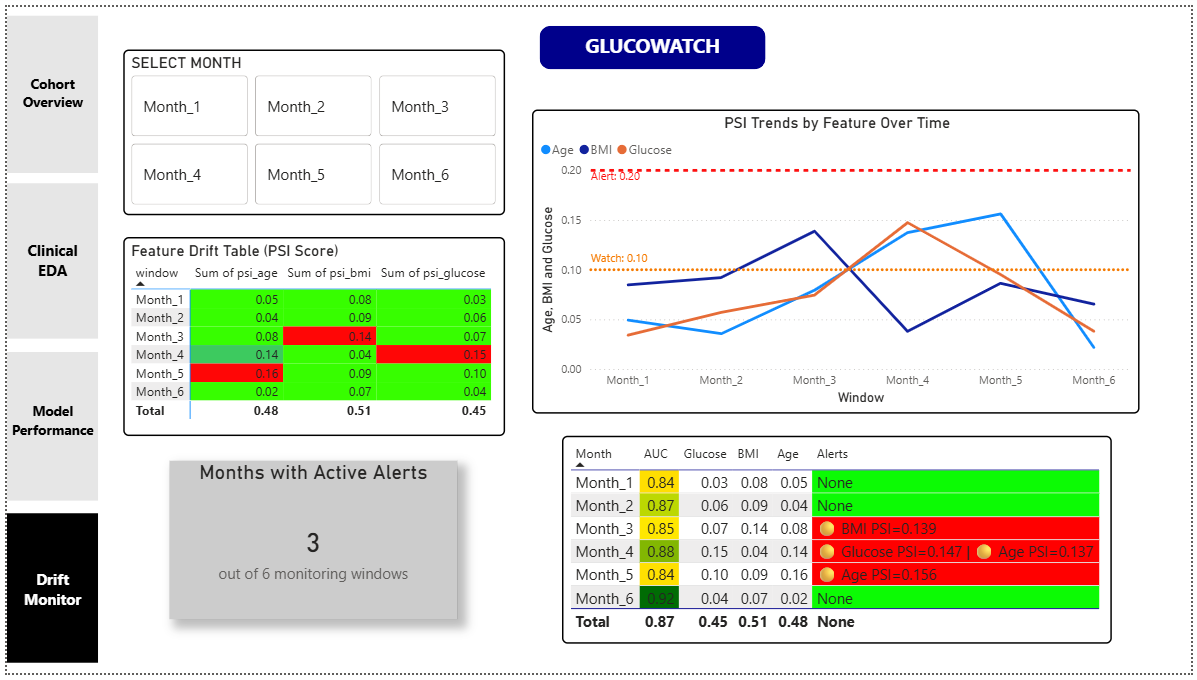

What the dashboard file says about the page in this screenshot:
{"tool":"powerbi","page":{"name":"Drift Monitor","canvas":[1280,720],"ordinal":3},"visuals":[{"type":"group","id":"g1","title":"Group 6","box":[0,9.3,98.7,699.1],"z":0},{"type":"group","id":"g2","title":"Group 7","box":[575,20.8,244.4,47.2],"z":1000},{"type":"shape","box":[575,20.8,244.4,47.2],"z":1000,"group":"g2"},{"type":"pivotTable","title":"Feature Drift Table (PSI Score)","fields":{"Rows":["monitoring_log.window"],"Values":["Sum(glucowatch_drift_report.psi_age)","Sum(glucowatch_drift_report.psi_bmi)","Sum(glucowatch_drift_report.psi_glucose)"]},"box":[125,248.6,412.5,215.3],"z":1001},{"type":"lineChart","title":"PSI Trends by Feature Over Time","fields":{"Category":["glucowatch_drift_report.window"],"Y":["Avg(glucowatch_drift_report.psi_age)","Avg(glucowatch_drift_report.psi_bmi)","Avg(glucowatch_drift_report.psi_glucose)"]},"box":[568.1,111.1,656.9,329.2],"z":1002},{"type":"card","title":"Months with Active Alerts","fields":{"Values":["glucowatch_drift_report.Active Alerts"]},"box":[175,490.3,311.1,170.8],"z":1003},{"type":"tableEx","fields":{"Values":["glucowatch_drift_report.window","Avg(glucowatch_drift_report.auc)","Sum(glucowatch_drift_report.psi_glucose)","Sum(glucowatch_drift_report.psi_bmi)","Sum(glucowatch_drift_report.psi_age)","glucowatch_drift_report.alerts"]},"box":[600,463.9,594.4,225],"z":1004},{"type":"advancedSlicerVisual","fields":{"Values":["glucowatch_drift_report.window"]},"box":[125,45.8,412.5,179.2],"z":1005},{"type":"textbox","box":[610.7,22.2,174.4,45.8],"z":2000,"group":"g2"},{"type":"shape","box":[0,9.3,98.7,170],"z":3000,"group":"g6"},{"type":"shape","box":[0,190.6,98.7,168.4],"z":5000,"group":"g5"},{"type":"shape","box":[0,373.3,98.7,160.7],"z":7000,"group":"g4"},{"type":"shape","box":[0,546.6,98.7,161.7],"z":8000,"group":"g3"},{"type":"group","id":"g3","title":"Group 1","box":[0,546.6,98.7,161.7],"z":9000,"group":"g1"},{"type":"group","id":"g4","title":"Group 3","box":[0,373.3,98.7,160.7],"z":10000,"group":"g1"},{"type":"group","id":"g5","title":"Group 4","box":[0,190.6,98.7,168.4],"z":11000,"group":"g1"},{"type":"group","id":"g6","title":"Group 5","box":[0,9.3,98.7,170],"z":12000,"group":"g1"},{"type":"textbox","box":[6.7,67.5,85.3,50.7],"z":13000,"group":"g6"},{"type":"textbox","box":[0,248,98.6,61.1],"z":14000,"group":"g5"},{"type":"textbox","box":[0,422.2,98.7,57.3],"z":15000,"group":"g4"},{"type":"textbox","box":[0,602.6,98.6,58.3],"z":16000,"group":"g3"}]}

Visuals, with their boxes in screenshot pixels (x1, y1, x2, y2), scaled from the page's 1280x720 canvas onto the 1197x680 screenshot:
"Group 6" group: 0,9,92,669
"Group 7" group: 538,20,766,64
shape: 538,20,766,64
"Feature Drift Table (PSI Score)" pivotTable: 117,235,503,438
"PSI Trends by Feature Over Time" lineChart: 531,105,1146,416
"Months with Active Alerts" card: 164,463,455,624
tableEx - glucowatch_drift_report.window x Avg(glucowatch_drift_report.auc): 561,438,1117,651
advancedSlicerVisual - glucowatch_drift_report.window: 117,43,503,212
textbox: 571,21,734,64
shape: 0,9,92,169
shape: 0,180,92,339
shape: 0,353,92,504
shape: 0,516,92,669
"Group 1" group: 0,516,92,669
"Group 3" group: 0,353,92,504
"Group 4" group: 0,180,92,339
"Group 5" group: 0,9,92,169
textbox: 6,64,86,112
textbox: 0,234,92,292
textbox: 0,399,92,453
textbox: 0,569,92,624
